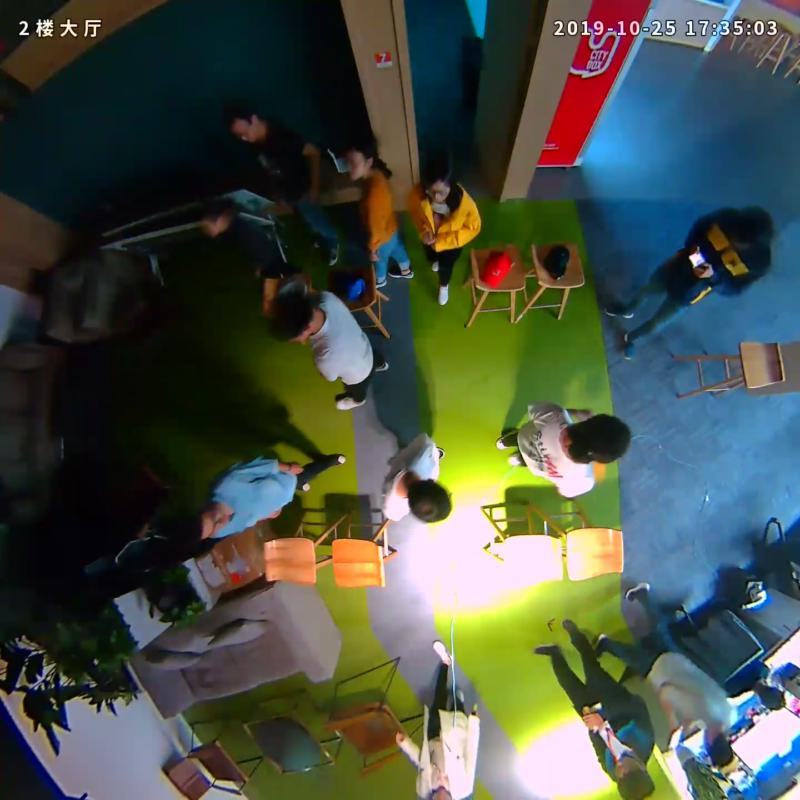head: (568, 414, 629, 465), (267, 291, 318, 346), (170, 505, 235, 541), (727, 206, 776, 249), (409, 478, 452, 524), (615, 754, 656, 800), (421, 152, 455, 205), (195, 195, 235, 238), (339, 135, 376, 181), (227, 102, 263, 144), (705, 726, 736, 767)
